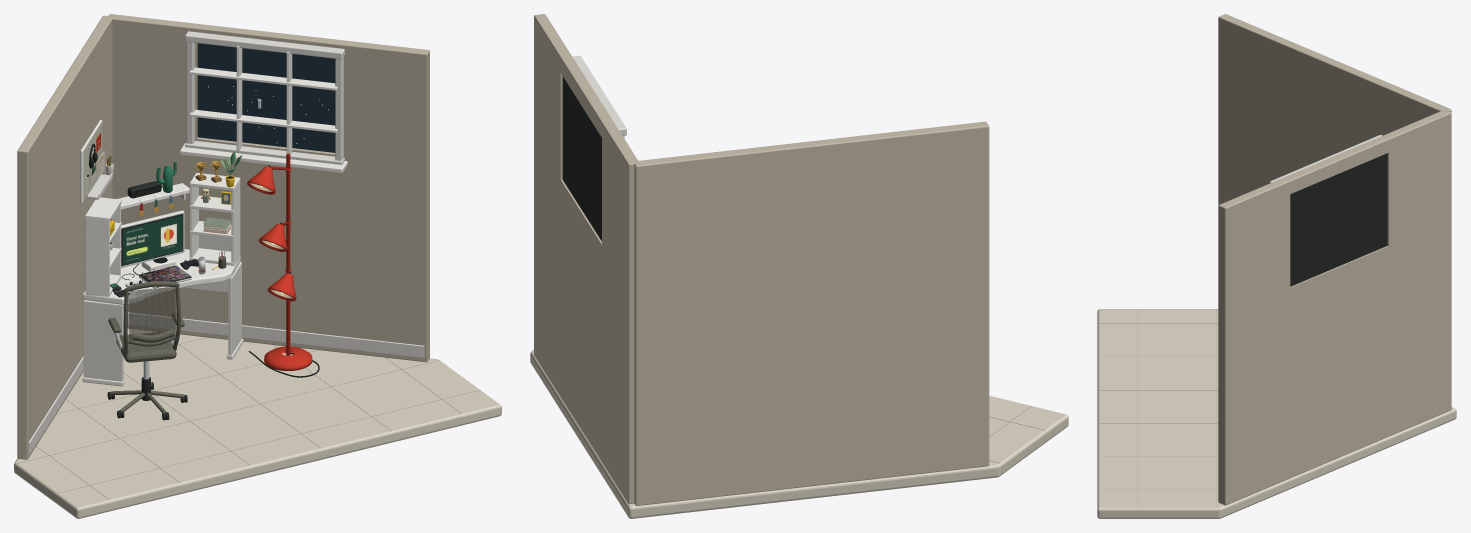
The model's file is workspace-saved.glb.
The picture shows the model from 3 angles, left to right: view 1: azimuth 30°, elevation 25°; view 2: azimuth 150°, elevation 25°; view 3: azimuth 270°, elevation 25°; orthographic projection. The views are drawn at different scales.
Visible parts, largest first — view 1: _static · Limewashed plaster, Room floor, window_glass, _static · Warm powder-coated white, chair · Chair woven frame, window · Porcelain edges, window · Warm powder-coated white, workspace_left_wing · Porcelain edges, _static · Porcelain edges, workspace_right_wing · Porcelain edges, monitor_screen, Chair breathable mesh (+4 smaller); view 2: _static · Limewashed plaster, Room floor, Window deep recess, window · Warm powder-coated white; view 3: _static · Limewashed plaster, Room floor, Window deep recess, _static · Tile grout.
Part boxes in pixels (x1,y1,x2,y2): _static · Limewashed plaster: [17, 14, 429, 459]; Room floor: [14, 328, 501, 518]; window_glass: [198, 43, 335, 152]; _static · Warm powder-coated white: [28, 194, 424, 454]; chair · Chair woven frame: [108, 281, 184, 414]; window · Porcelain edges: [180, 46, 347, 172]; window · Warm powder-coated white: [185, 31, 344, 164]; workspace_left_wing · Porcelain edges: [80, 119, 121, 296]; _static · Porcelain edges: [82, 183, 243, 386]; workspace_right_wing · Porcelain edges: [189, 172, 240, 266]; monitor_screen: [123, 215, 182, 264]; Chair breathable mesh: [129, 287, 175, 340]; _static · Limewashed plaster: [534, 14, 989, 505]; Room floor: [530, 350, 1068, 518]; Window deep recess: [562, 76, 601, 241]; window · Warm powder-coated white: [572, 55, 626, 138]; _static · Limewashed plaster: [1218, 14, 1451, 505]; Room floor: [1097, 309, 1456, 518]; Window deep recess: [1290, 153, 1387, 286]; _static · Tile grout: [1100, 309, 1420, 507].
Size of the model in its own units: 6.64 by 4.76 by 5.02.
62 materials, 10 textured.
